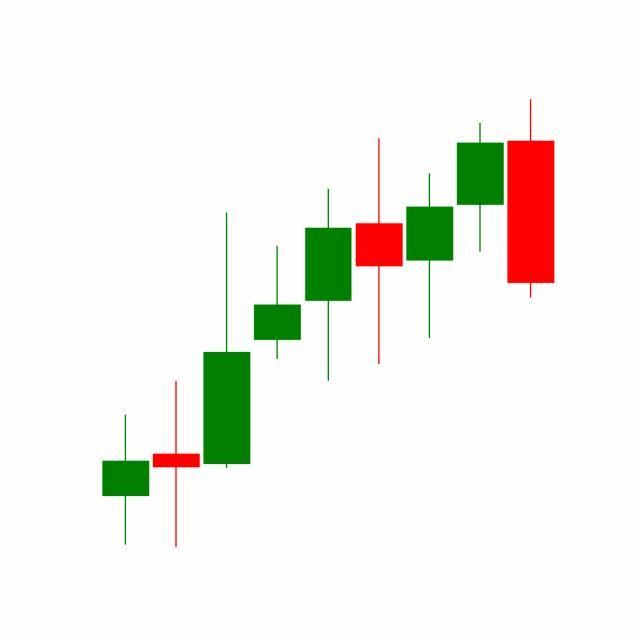Hikkake Pattern: (252, 121, 506, 386)
